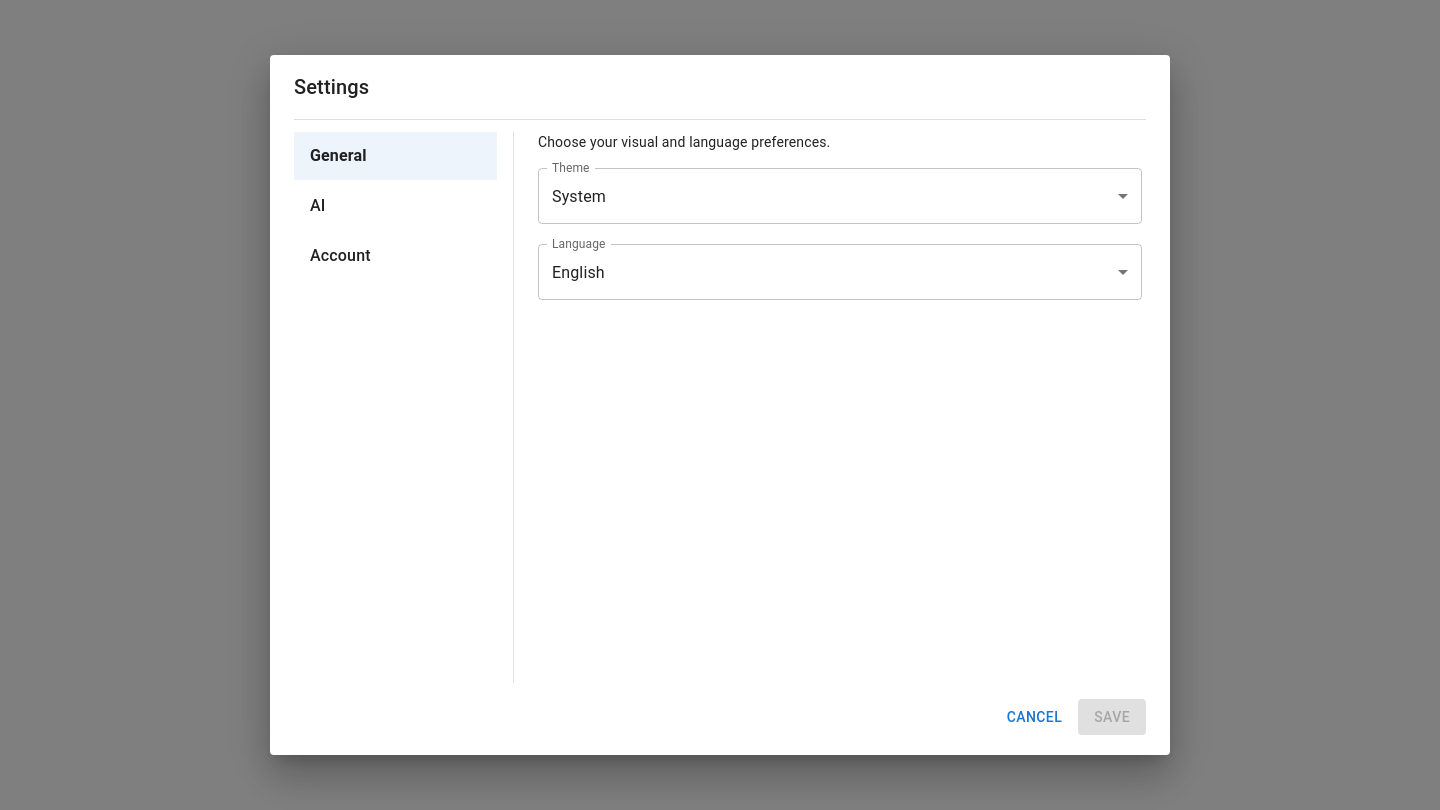
Test: SettingsDialog › keeps field labels attached without dangling label for attributes
Click the button "AI" at (318, 206), box top-left (310, 196), bottom-right (326, 215)
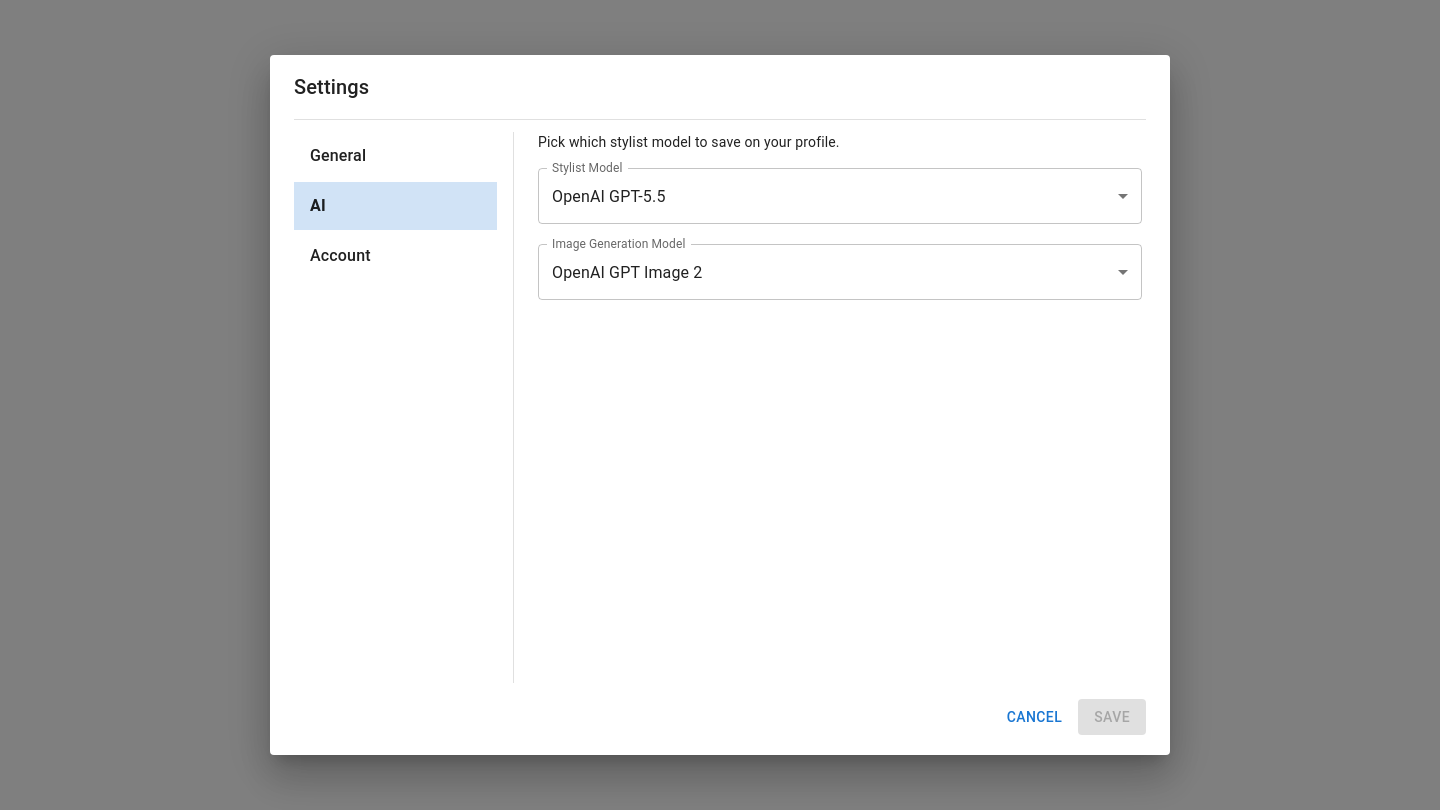
Click the button "Account" at (340, 256), box top-left (310, 246), bottom-right (371, 265)
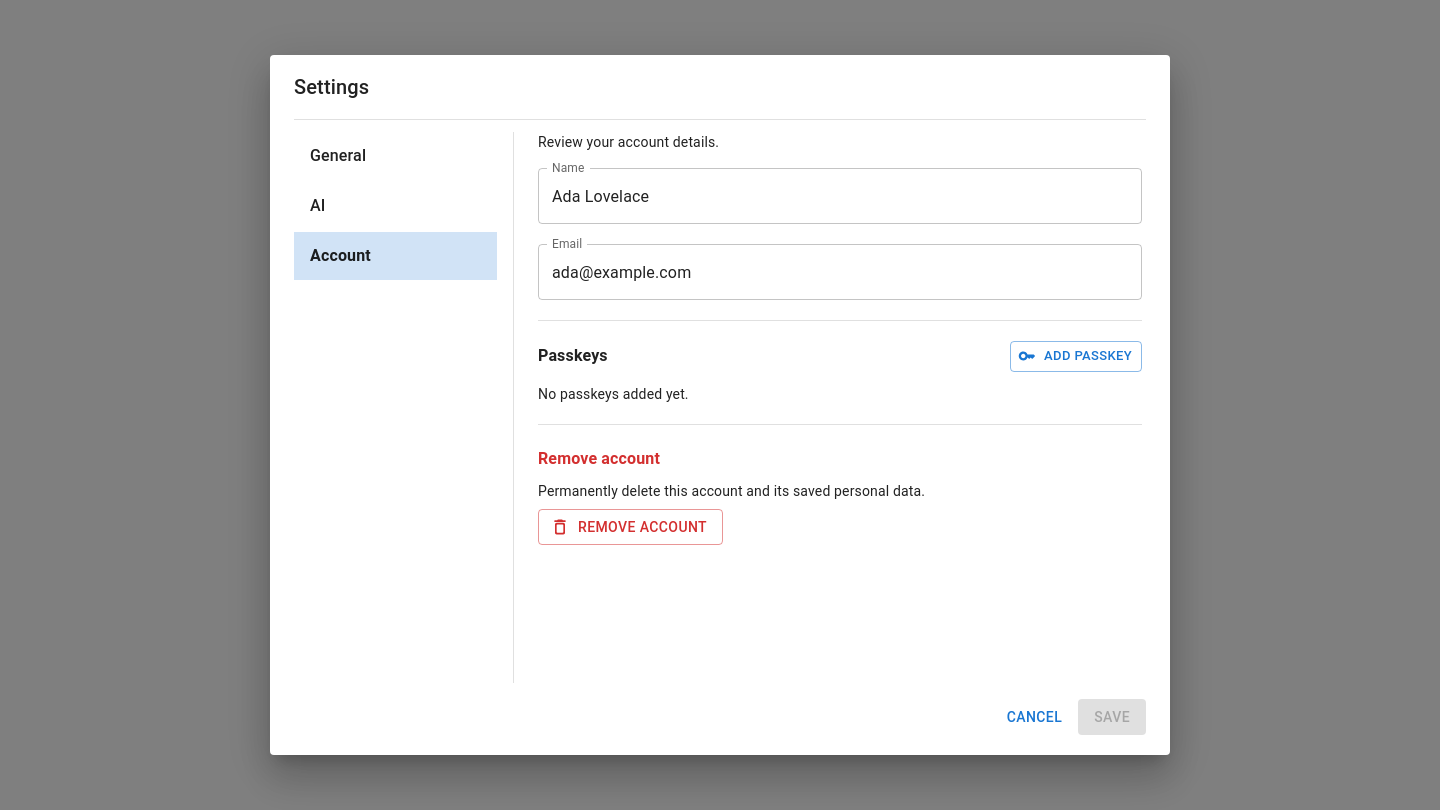
Check: the field labelled "Name" is shown, box top-left (538, 168), bottom-right (1142, 224)
Check: the field labelled "Email" is shown, box top-left (538, 244), bottom-right (1142, 300)
